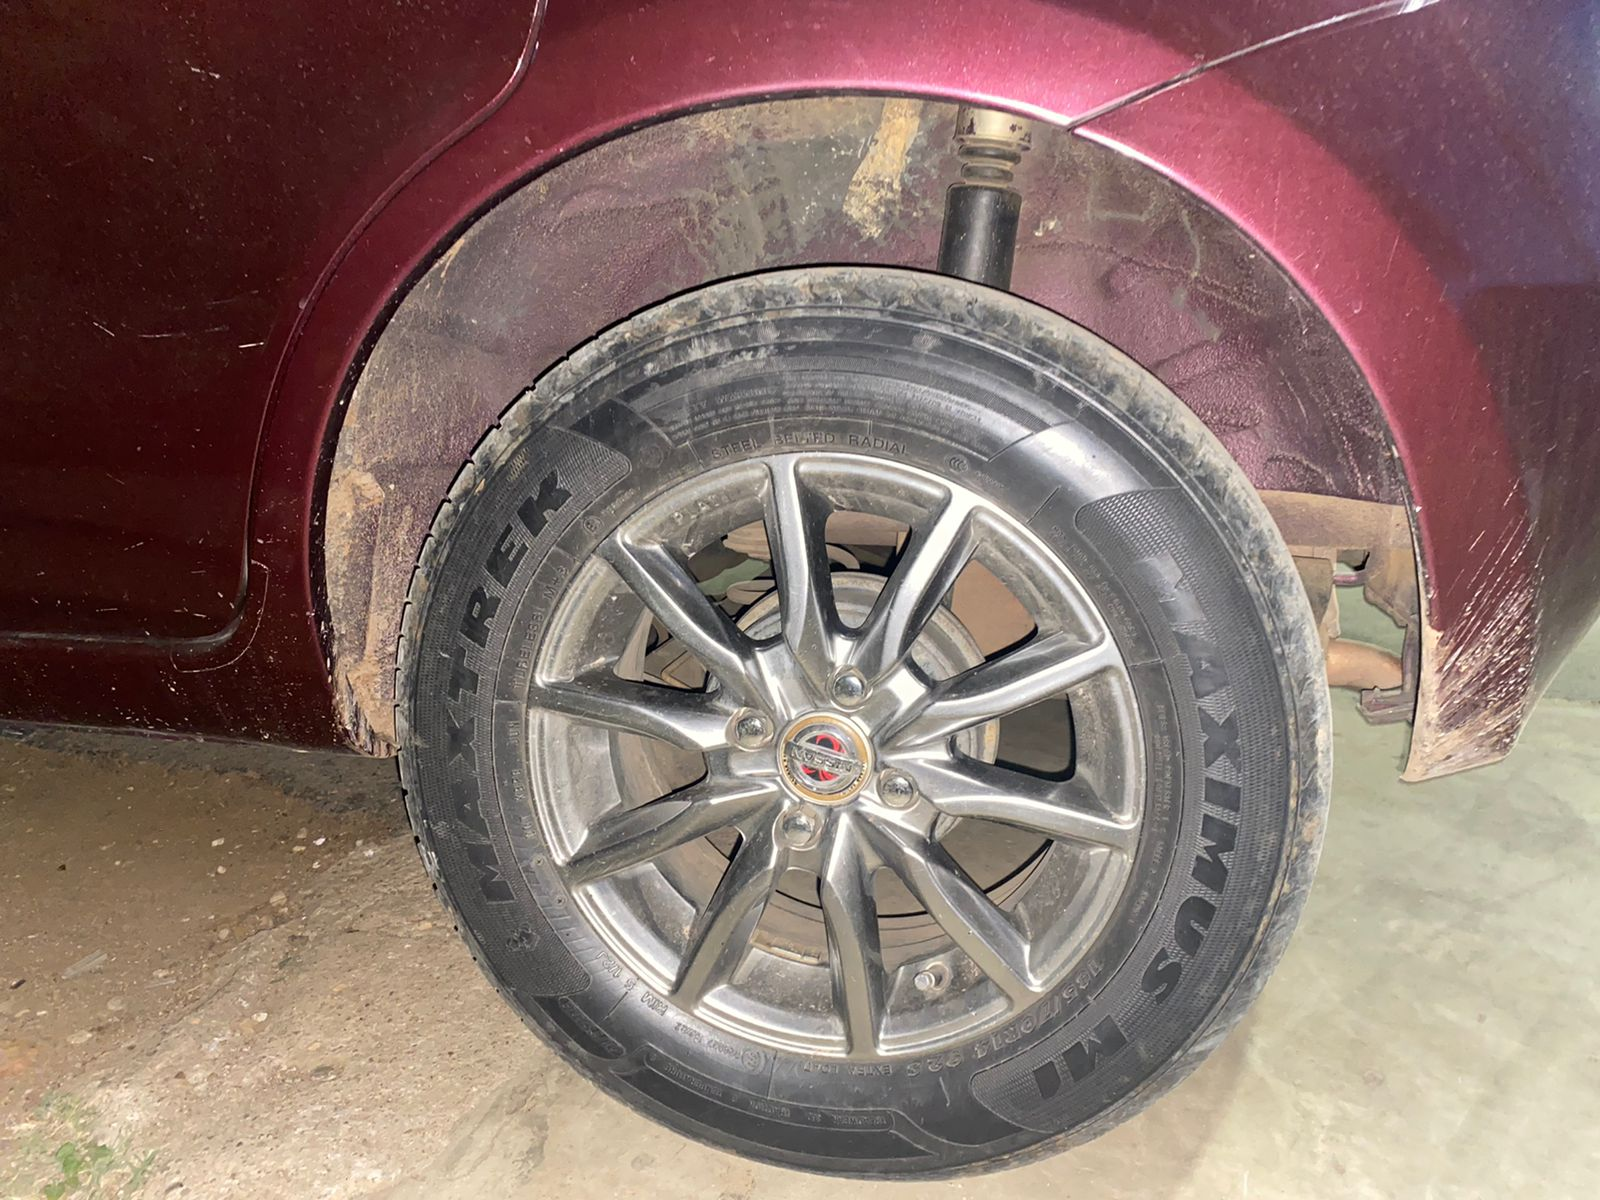wheel: (392, 265, 1337, 1185)
